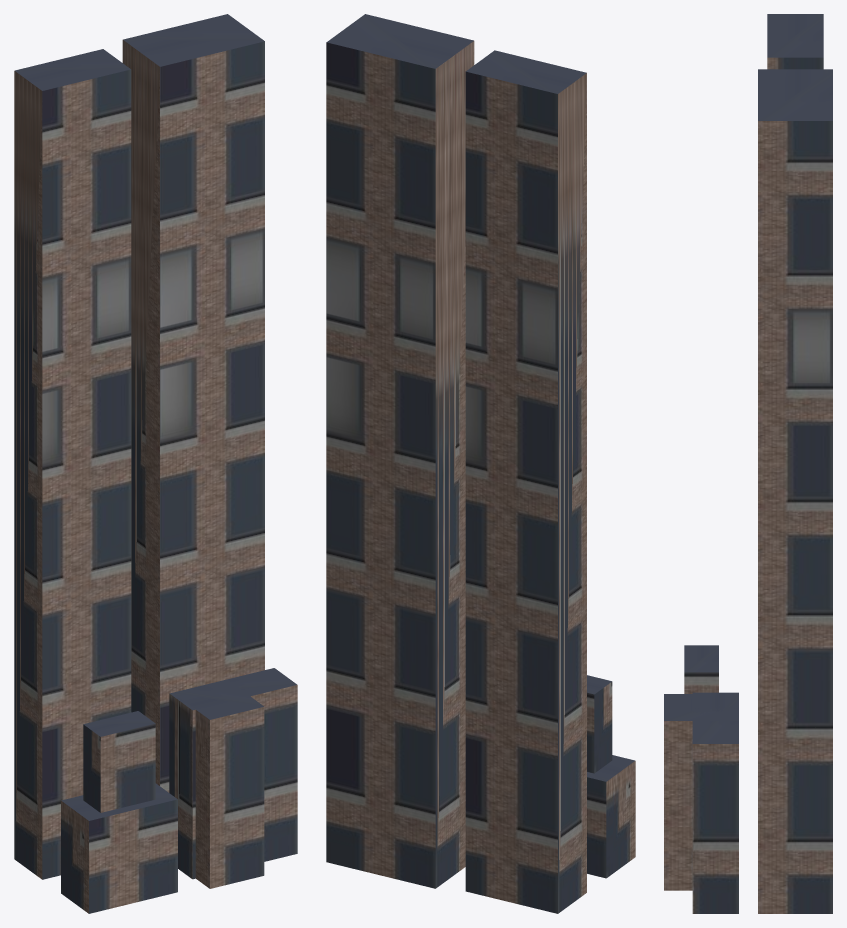
The model's file is block_07.obj.
3 renders of one model, left to right at view 1: azimuth 30°, elevation 25°; view 2: azimuth 150°, elevation 25°; view 3: azimuth 270°, elevation 25°, orthographic. The views are drawn at different scales.
Visible parts, largest first — view 1: b2, b0, b3, b1; view 2: b2, b0, b1; view 3: b2, b3, b0, b1.
Part boxes in pixels (x1,y1,x2,y2): b2: [122, 14, 264, 792]; b0: [14, 49, 131, 879]; b3: [169, 668, 297, 888]; b1: [61, 711, 177, 913]; b2: [326, 14, 474, 888]; b0: [465, 50, 586, 913]; b1: [587, 675, 635, 878]; b2: [758, 69, 832, 913]; b3: [664, 692, 738, 913]; b0: [767, 14, 823, 69]; b1: [684, 645, 718, 693].
Size of the model in its own units: 4.05 by 14 by 2.7.
